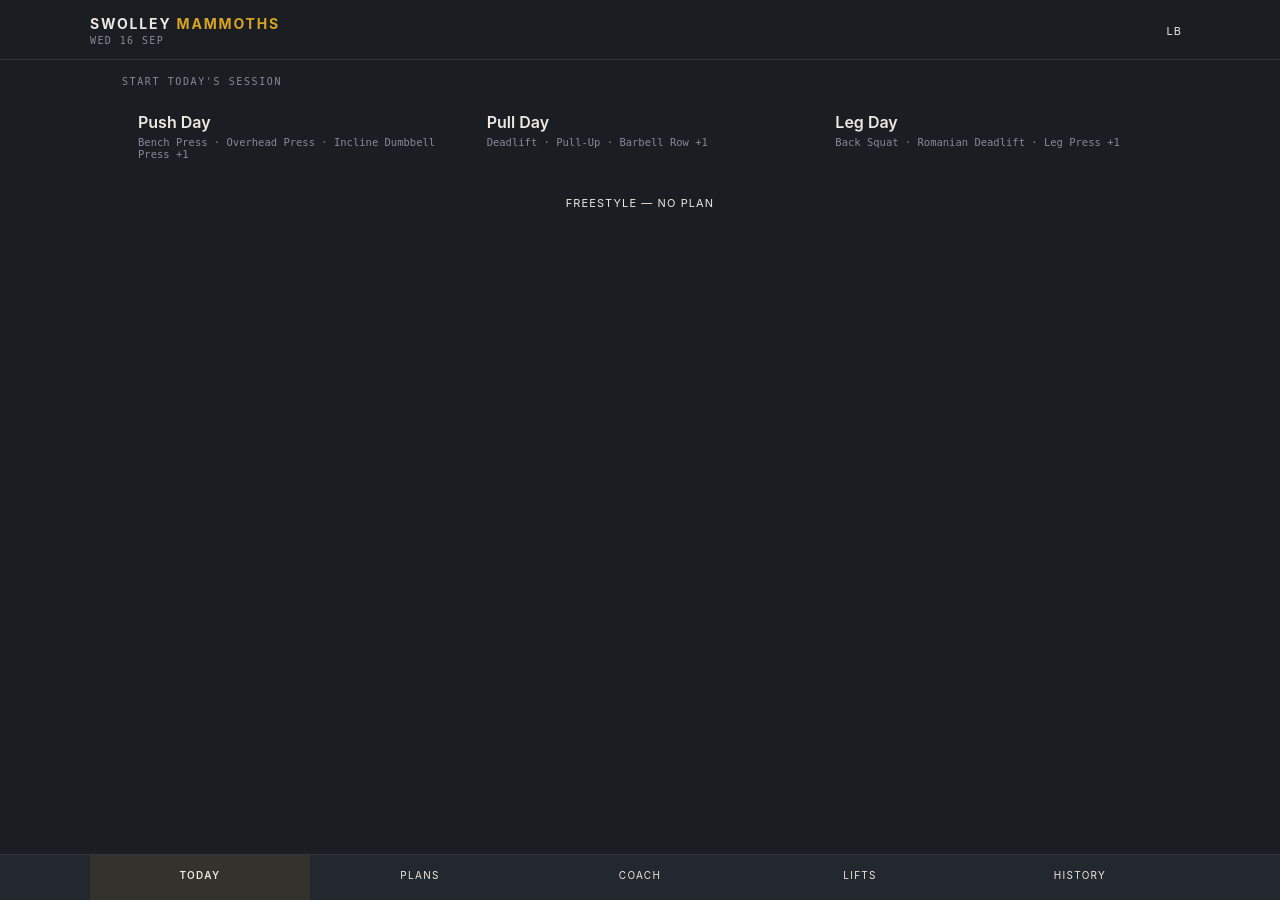
Test case: SwolleyMammoths › opens the goal creation sheet from the Coach tab
The image size is (1280, 900).
Expected: the text "SWOLLEY MAMMOTHS" is shown, [90,15,280,32]
What coordinates should you click on to do the following:
click the button "Coach"
I would click on:
 (640, 878)
Its box is [530,855,750,899].
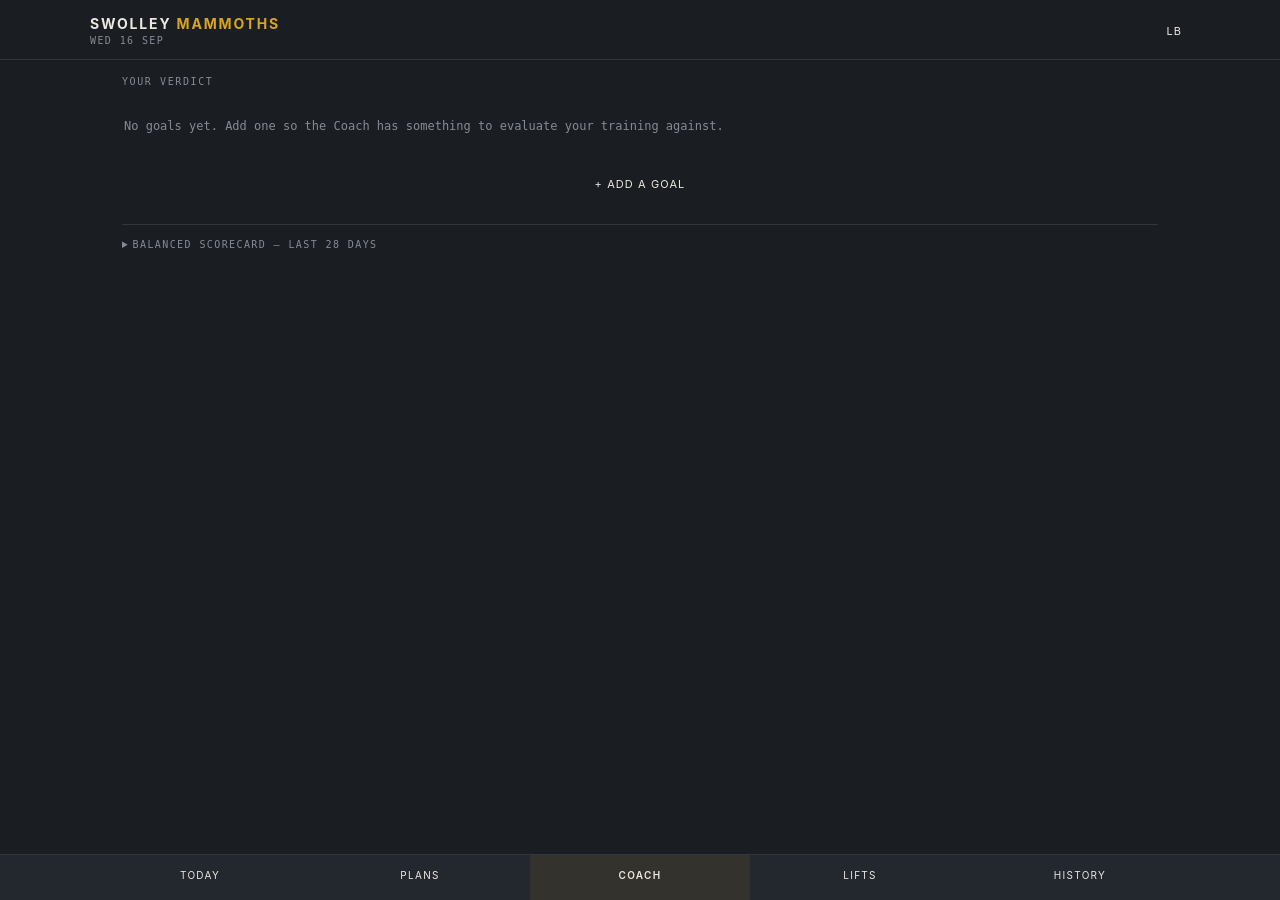
What coordinates should you click on to do the following:
click the button "+ Add a goal"
I would click on:
 (640, 184)
Its box is [122,164,1158,204].
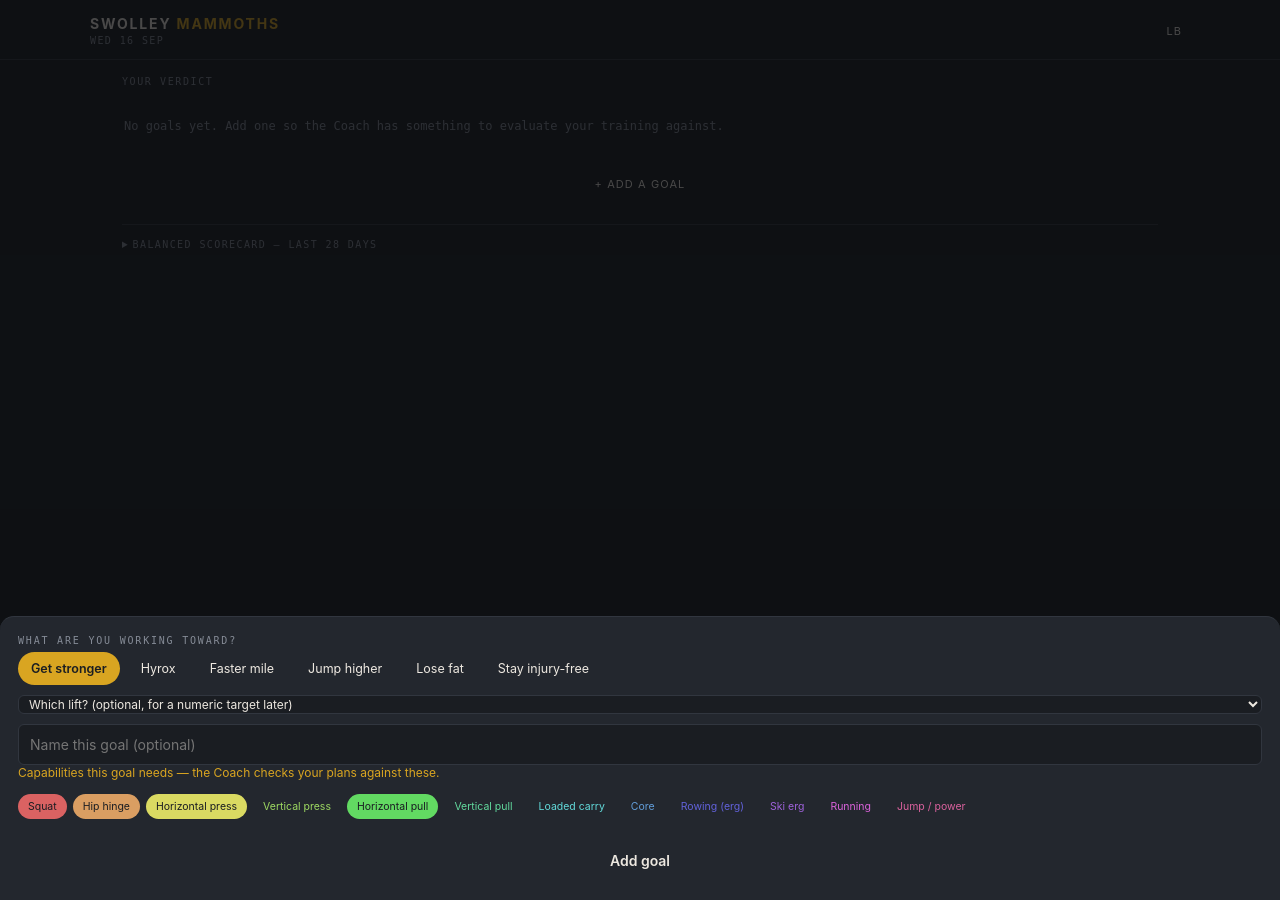
Now the text "What are you working toward?" is shown, box [18,635,237,646]
Now the button "Hyrox" is shown, box [128,652,189,685]
